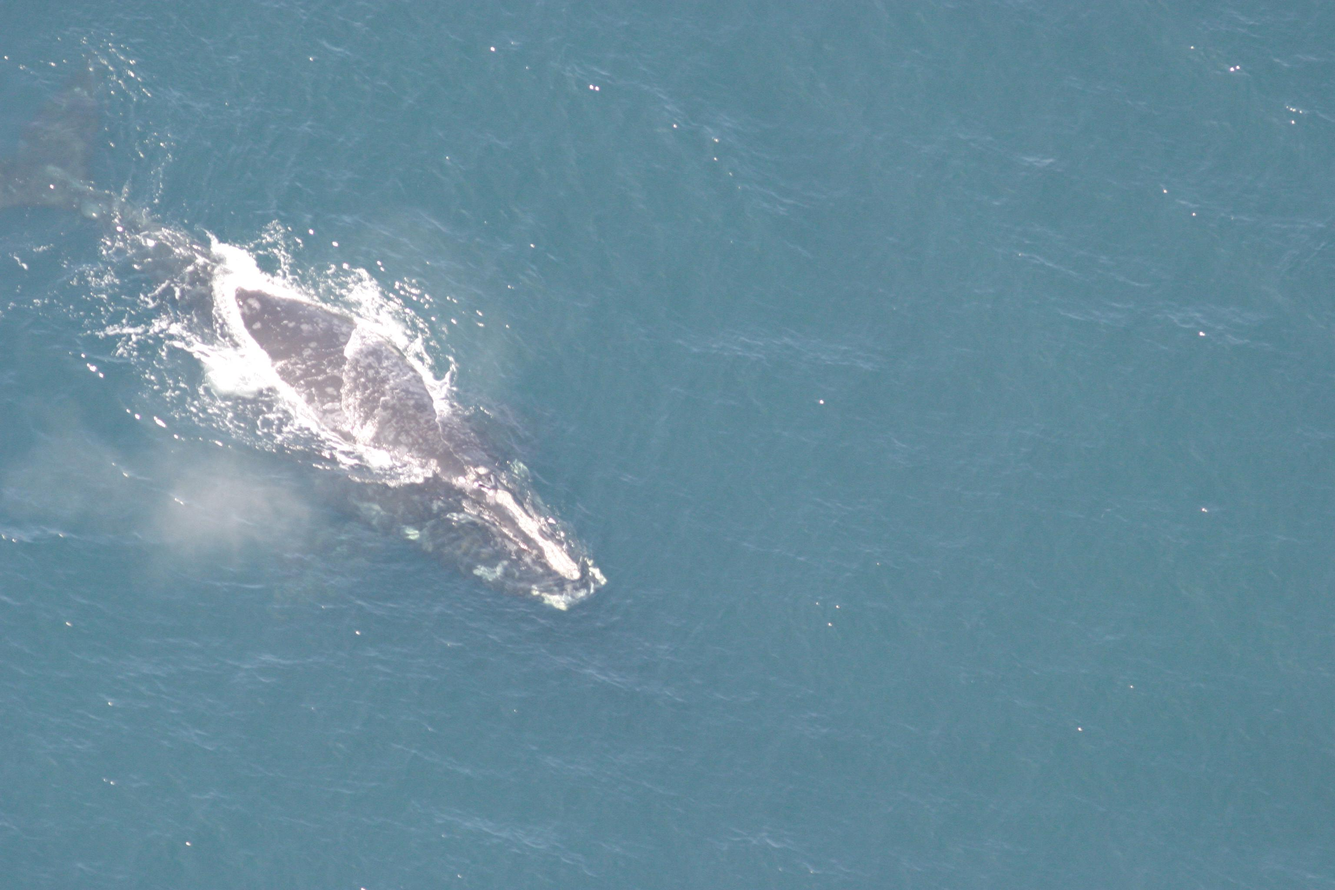whale: (0, 30, 616, 626)
